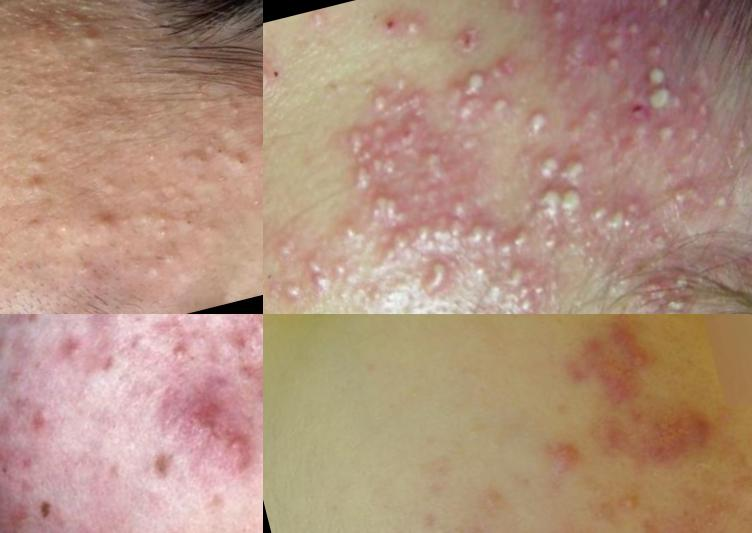blackhead: (226, 149, 259, 181)
folliculitis: (621, 11, 658, 48)
papular: (525, 428, 586, 489), (18, 383, 70, 441), (177, 389, 231, 442), (53, 315, 102, 368), (272, 265, 320, 315), (219, 428, 263, 473), (299, 6, 341, 44), (264, 46, 293, 99), (537, 513, 610, 533), (494, 1, 542, 26)
purulent: (330, 104, 410, 167), (648, 166, 717, 224), (641, 262, 707, 315), (697, 178, 752, 232), (512, 98, 567, 150), (584, 195, 639, 247), (290, 251, 343, 303), (481, 42, 535, 91), (264, 226, 310, 277), (443, 90, 491, 137), (327, 211, 372, 260), (412, 141, 459, 186), (355, 81, 400, 128), (495, 252, 543, 294), (558, 143, 602, 188), (644, 115, 689, 159), (637, 77, 681, 119), (479, 87, 524, 128), (457, 62, 498, 104), (637, 54, 679, 94), (718, 113, 752, 162), (530, 149, 571, 188), (418, 257, 459, 295), (393, 7, 433, 45), (440, 188, 480, 225), (504, 283, 549, 315), (643, 1, 691, 18), (738, 157, 752, 207)
sebo-crystan-conglo: (369, 209, 478, 270), (462, 208, 533, 269), (338, 147, 414, 202), (528, 174, 597, 224), (355, 185, 415, 235), (592, 45, 638, 88), (544, 1, 626, 11)
whitehead: (183, 81, 259, 135), (132, 237, 194, 293), (139, 200, 188, 247), (161, 335, 209, 375), (604, 478, 644, 522), (134, 135, 181, 172), (95, 162, 137, 199), (55, 211, 86, 244), (72, 26, 107, 55), (22, 174, 53, 204), (187, 144, 218, 172), (484, 523, 524, 533)
